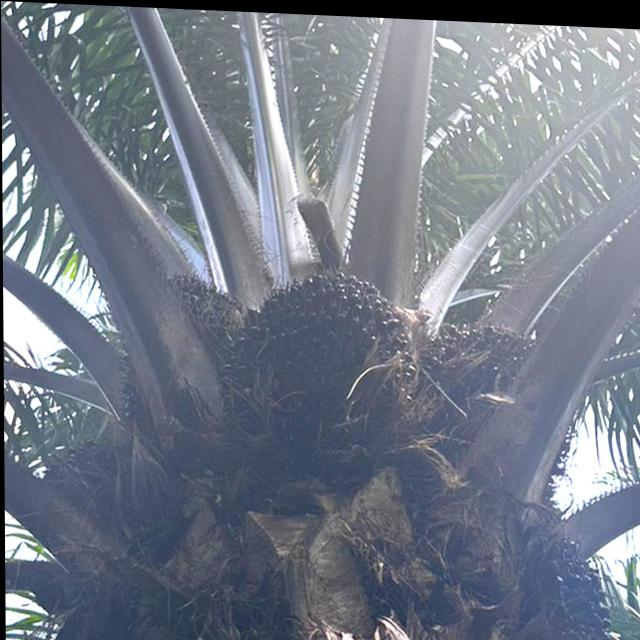almost: (235, 257, 415, 429)
